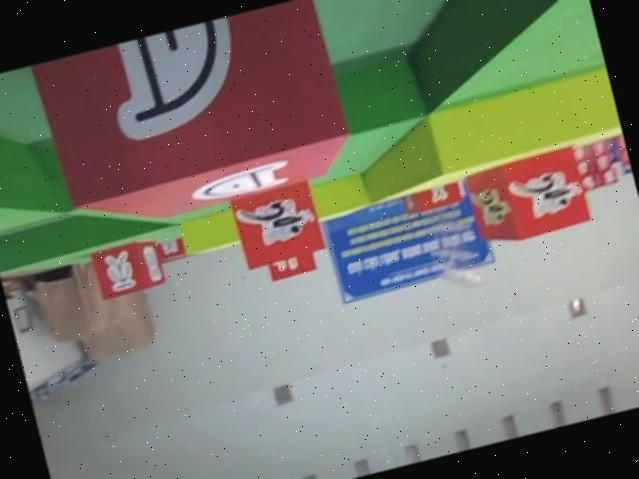R1: (462, 144, 594, 252), (224, 172, 327, 272)
R2 Fake: (88, 225, 167, 303)
R2 Real: (22, 0, 357, 248)
